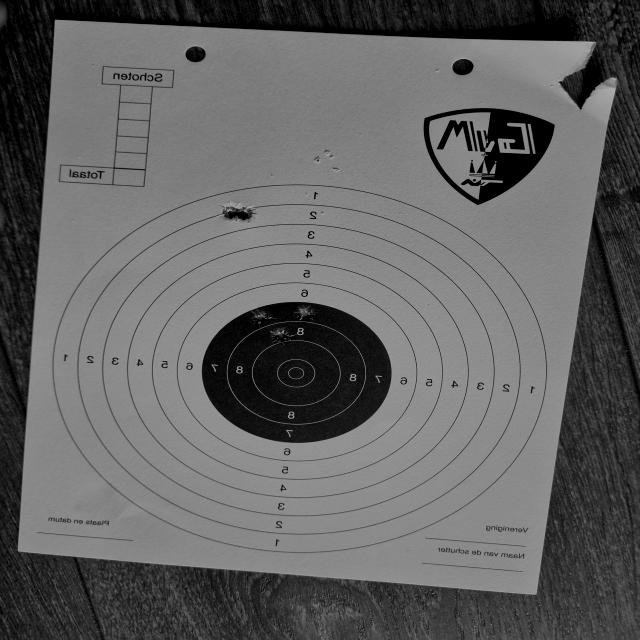2: (238, 205, 258, 222), (220, 205, 238, 222)
7: (248, 310, 276, 326), (294, 306, 316, 321)
9: (270, 328, 296, 344)
Target: (52, 185, 548, 554)
black_contour: (202, 302, 391, 444)
